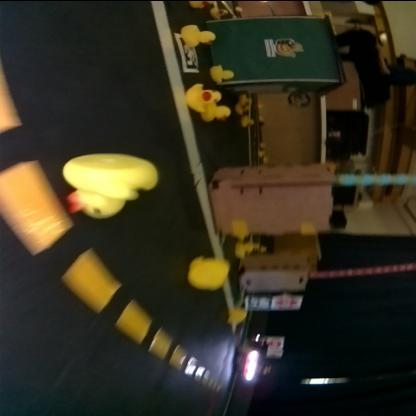Duckie: (64, 154, 160, 214), (189, 256, 231, 288), (186, 83, 220, 109), (182, 23, 216, 45), (201, 102, 229, 119), (211, 63, 235, 80), (236, 240, 255, 257), (229, 309, 247, 321)
Duckiebot: (234, 346, 272, 380)
QR code: (176, 32, 198, 68), (247, 297, 272, 307)
